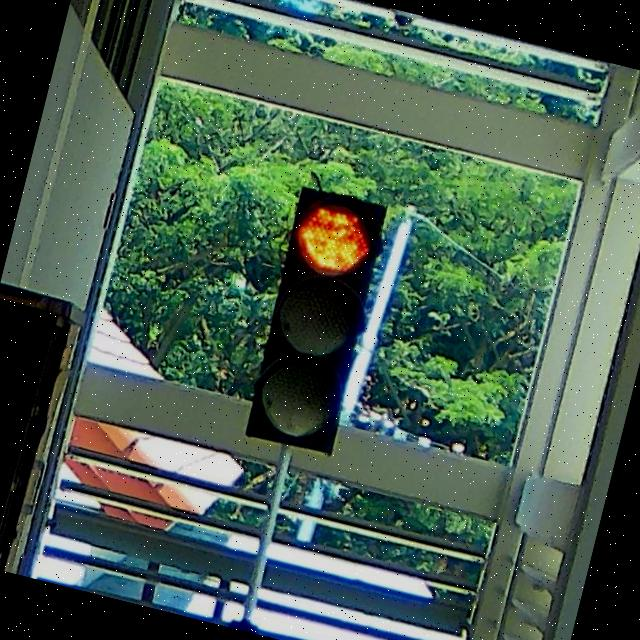red_light: (240, 183, 396, 454)
